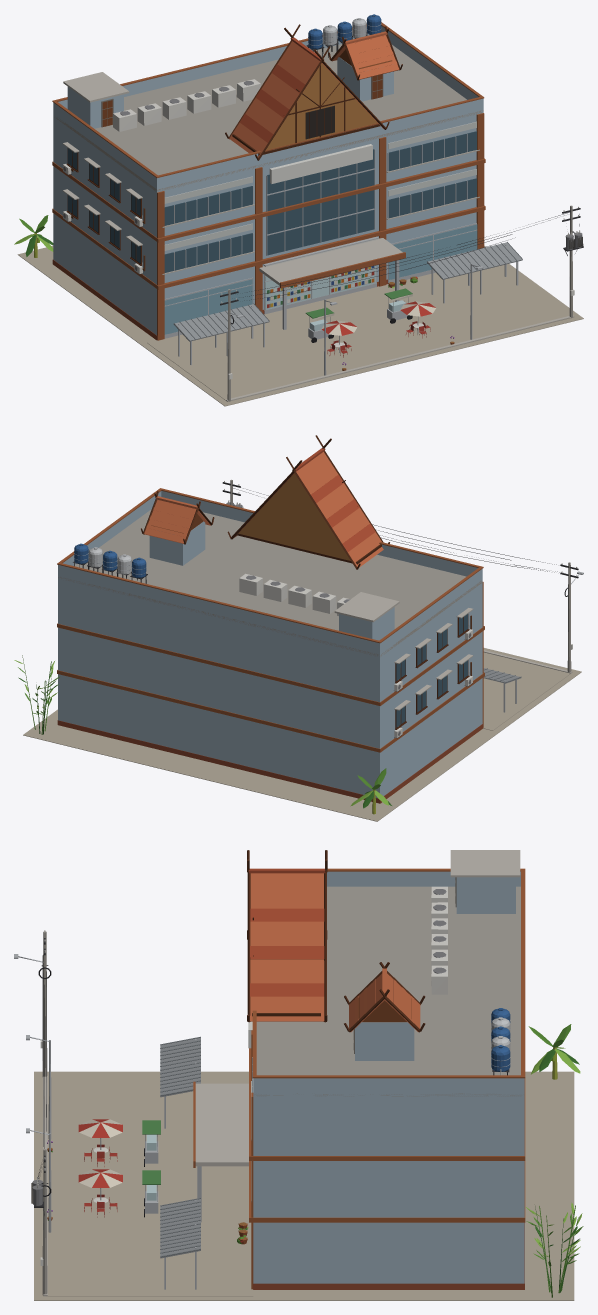
File: shop_5.glb
The picture shows the model from 3 angles, top to bottom: view 1: azimuth 30°, elevation 25°; view 2: azimuth 150°, elevation 25°; view 3: azimuth 270°, elevation 25°; orthographic projection. The views are drawn at different scales.
Parts seen in each view (by area): view 1: body, windows; view 2: body, windows; view 3: body.
Boxes of the visible parts, left/top/right/bottom form: body: left=14, top=14, right=583, bottom=406; windows: left=68, top=105, right=476, bottom=272; body: left=14, top=435, right=583, bottom=821; windows: left=396, top=614, right=467, bottom=727; body: left=14, top=850, right=583, bottom=1300.
Size of the model in its own units: 34.1 by 21.99 by 33.64.
